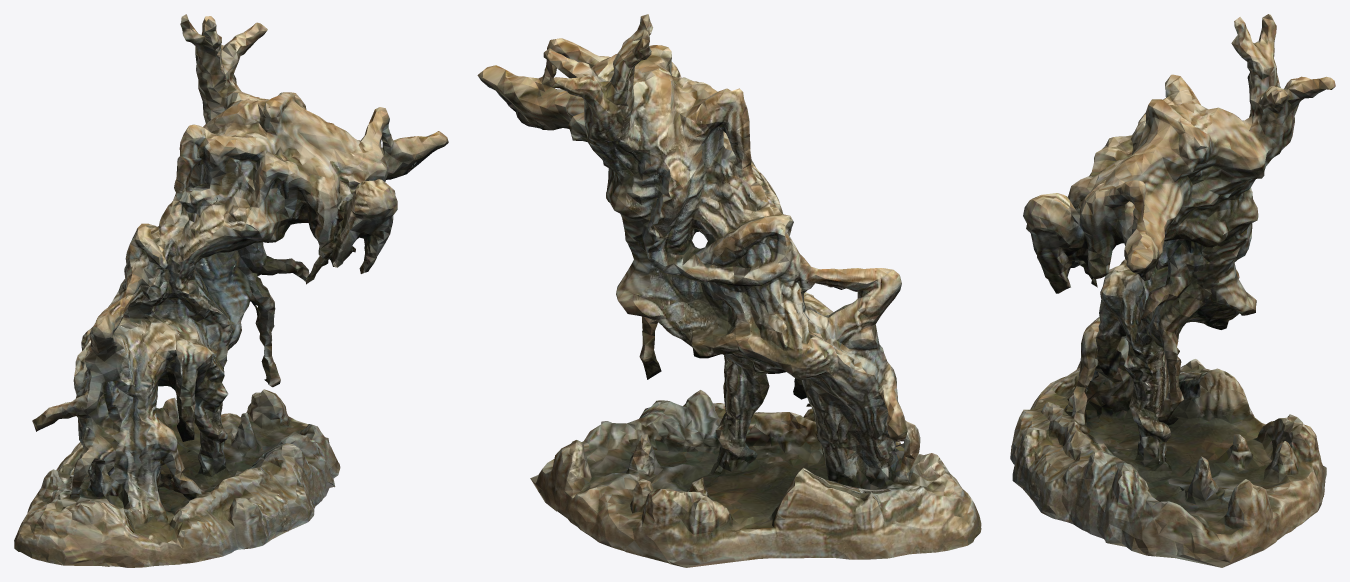
File: manipede.glb
3 renders of one model, left to right at view 1: azimuth 30°, elevation 25°; view 2: azimuth 150°, elevation 25°; view 3: azimuth 270°, elevation 25°, orthographic. The views are drawn at different scales.
Visible parts, largest first — view 1: geometry_0; view 2: geometry_0; view 3: geometry_0.
Boxes of the visible parts, <box> form: geometry_0: <box>14,14,448,567</box>; geometry_0: <box>477,14,981,567</box>; geometry_0: <box>1010,14,1335,567</box>.
Size of the model in its own units: 0.037 by 0.0362 by 0.0218.
Materials: 1 (1 with a texture image).
